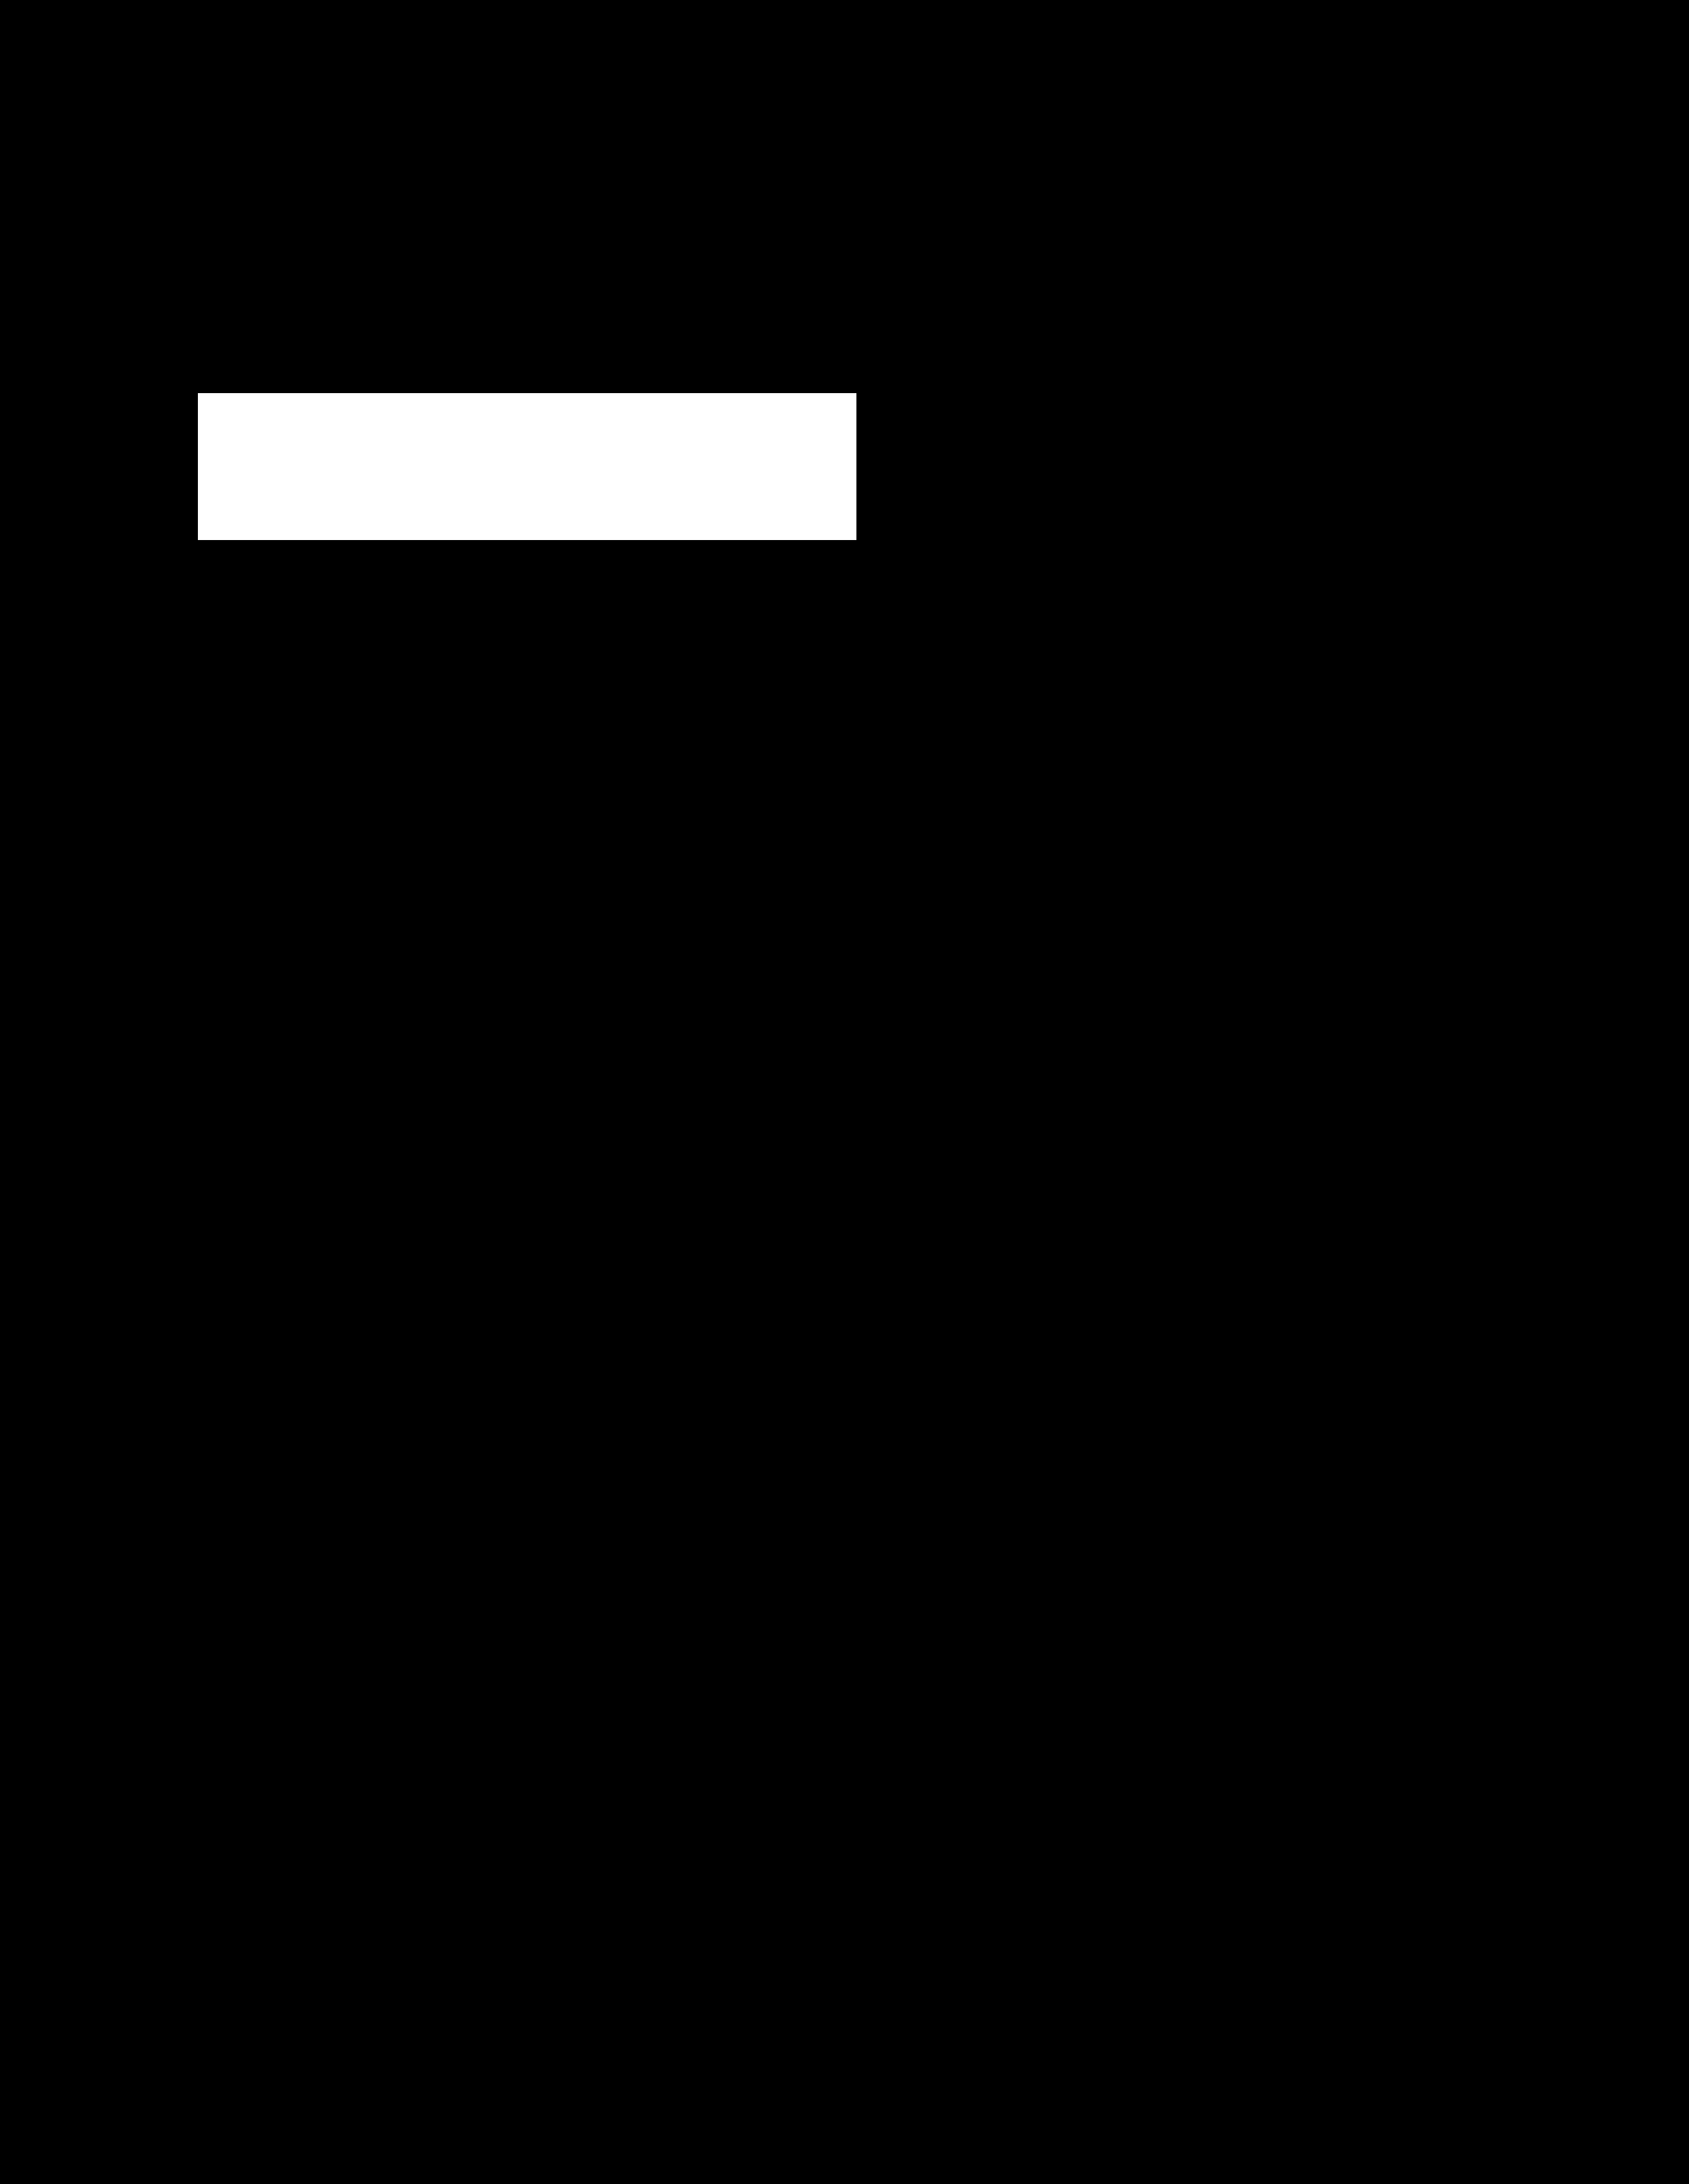table: (198, 394, 856, 539)
